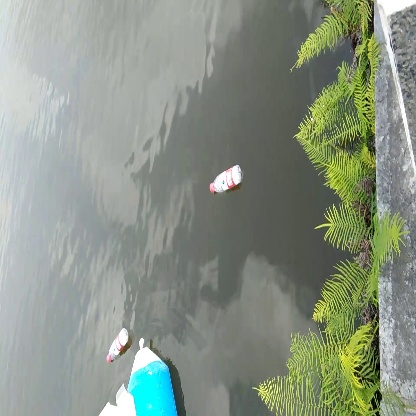bottle: (207, 161, 245, 198), (99, 328, 131, 363)
